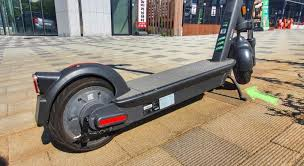kick_wheel: (31, 63, 123, 152), (232, 37, 253, 84)
